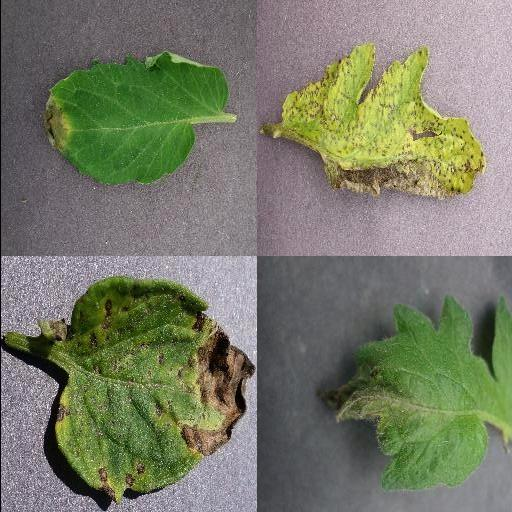Late Blight: (314, 294, 512, 492), (42, 51, 228, 187)
Septoria: (54, 277, 254, 506), (281, 42, 489, 198)
